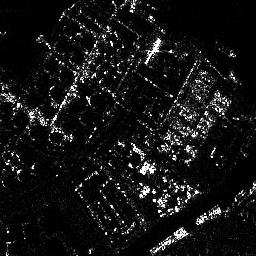ship: (150, 225, 186, 256), (194, 203, 222, 225)
